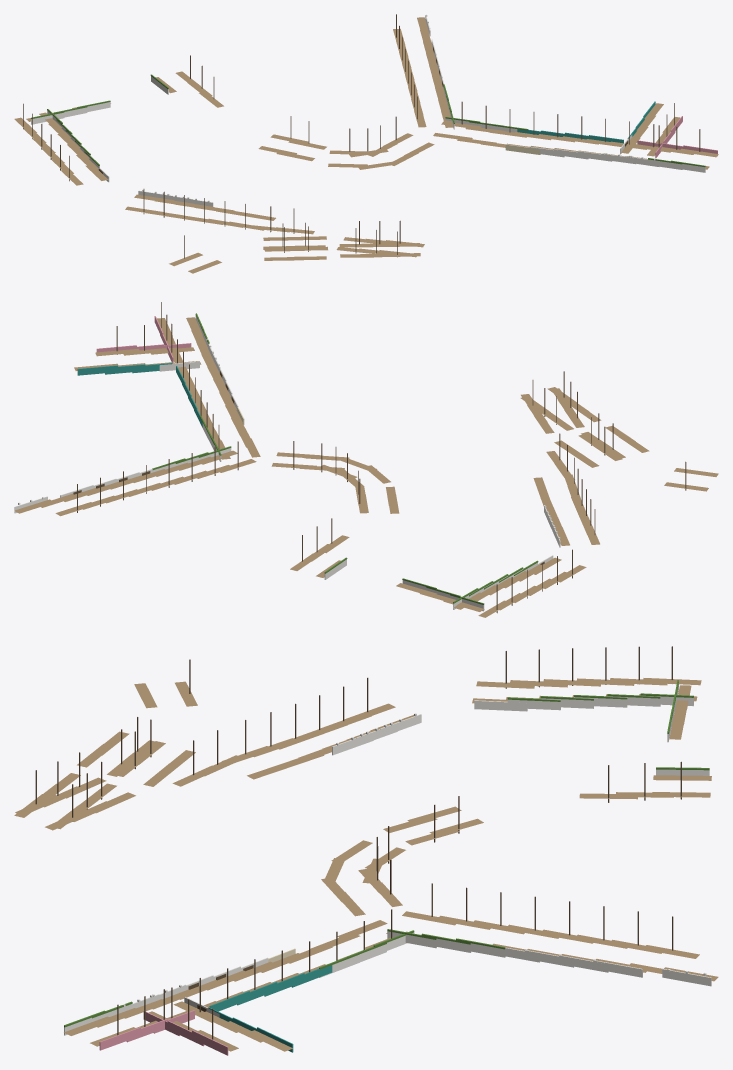
Rendered from noord_res_-15_-10.glb.
3 renders of one model, top to bottom at view 1: azimuth 30°, elevation 25°; view 2: azimuth 150°, elevation 25°; view 3: azimuth 270°, elevation 25°, orthographic. The views are drawn at different scales.
Visible parts, largest first — view 1: noord_res_-15_-10_lod0; view 2: noord_res_-15_-10_lod0; view 3: noord_res_-15_-10_lod0.
Part boxes in pixels (x1=…): noord_res_-15_-10_lod0: x1=14, y1=14, x2=718, y2=273; noord_res_-15_-10_lod0: x1=14, y1=302, x2=718, y2=617; noord_res_-15_-10_lod0: x1=14, y1=646, x2=718, y2=1055.
Size of what is drawn, in the model's own units: 184 by 14.41 by 145.
